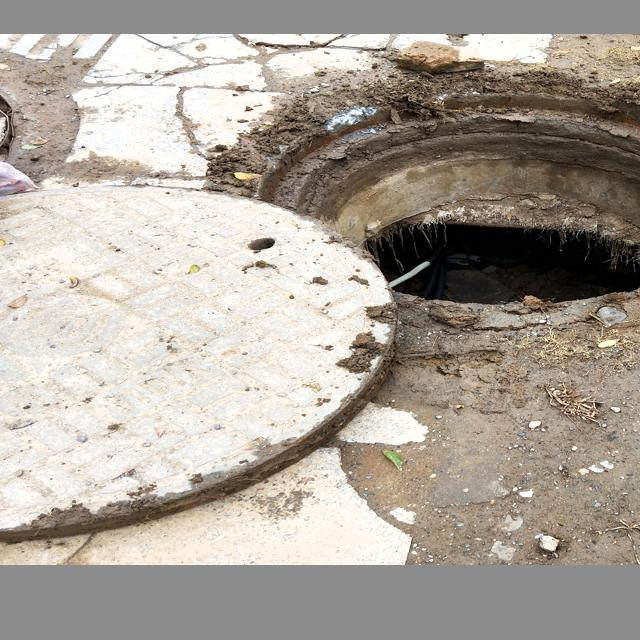uncovered: (0, 78, 640, 543)
